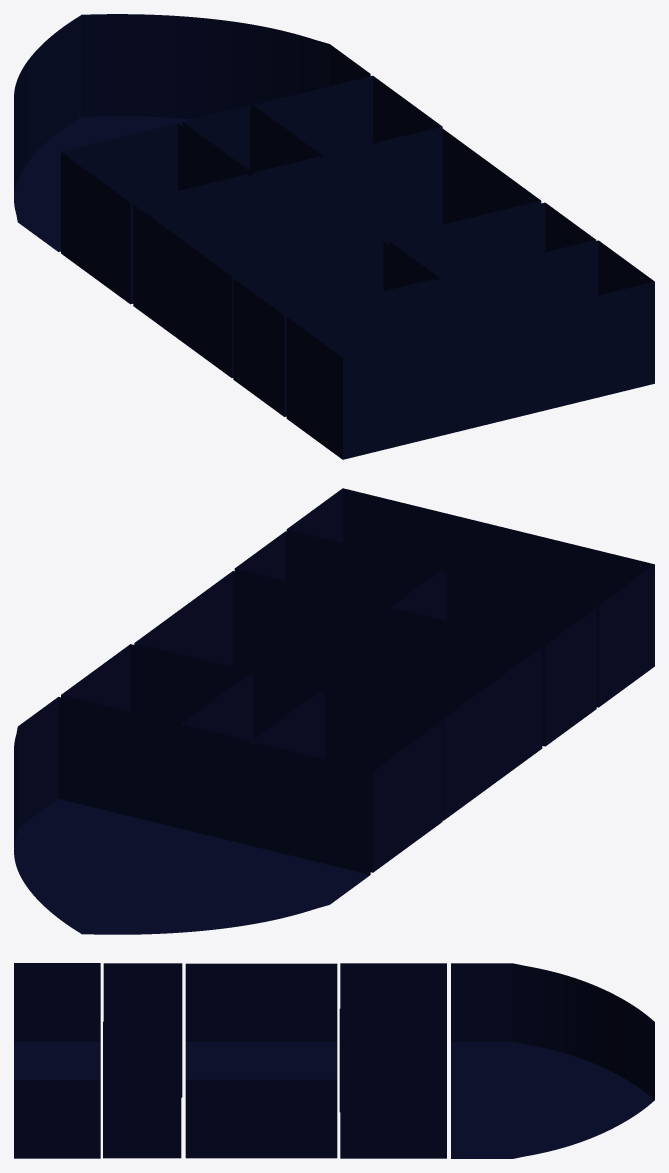
File: dualInTheDark.glb
3 renders of one model, top to bottom at view 1: azimuth 30°, elevation 25°; view 2: azimuth 150°, elevation 25°; view 3: azimuth 270°, elevation 25°, orthographic. The views are drawn at different scales.
Parts seen in each view (by area): view 1: engine_room, dining_room, cockpit_room, bed2_room, reserve_room, bed1_room, other_room, corridor_room; view 2: cockpit_room, dining_room, engine_room, bed2_room, reserve_room, bed1_room, other_room, corridor_room; view 3: cockpit_room, dining_room, engine_room, bed1_room, other_room, bed2_room, reserve_room, corridor_room.
Part boxes in pixels (box(x1,y1,x2,y2)): engine_room: box(286, 240, 654, 459); dining_room: box(133, 128, 541, 377); cockpit_room: box(14, 14, 370, 251); bed2_room: box(61, 123, 247, 304); reserve_room: box(233, 241, 434, 416); bed1_room: box(253, 75, 442, 158); other_room: box(389, 202, 596, 280); corridor_room: box(182, 105, 319, 175); cockpit_room: box(14, 697, 370, 934); dining_room: box(134, 571, 542, 820); engine_room: box(286, 488, 654, 707); bed2_room: box(256, 691, 442, 872); reserve_room: box(395, 571, 596, 746); bed1_room: box(61, 644, 249, 727); other_room: box(234, 531, 441, 610); corridor_room: box(184, 673, 321, 744); cockpit_room: box(451, 963, 654, 1158); dining_room: box(185, 963, 337, 1158); engine_room: box(14, 963, 100, 1158); bed1_room: box(340, 1035, 446, 1158); other_room: box(103, 1021, 181, 1158); bed2_room: box(340, 963, 446, 1008); reserve_room: box(103, 963, 182, 1097); corridor_room: box(339, 1008, 446, 1111).
Size of the model in its own units: 8 by 2.51 by 18.52.
